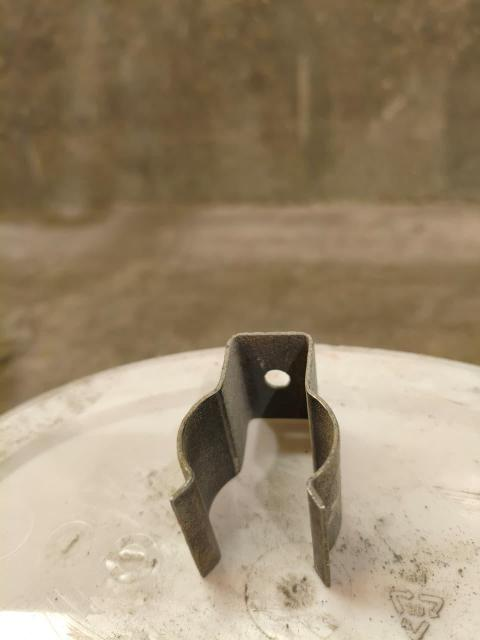Metal: (168, 332, 342, 591)
